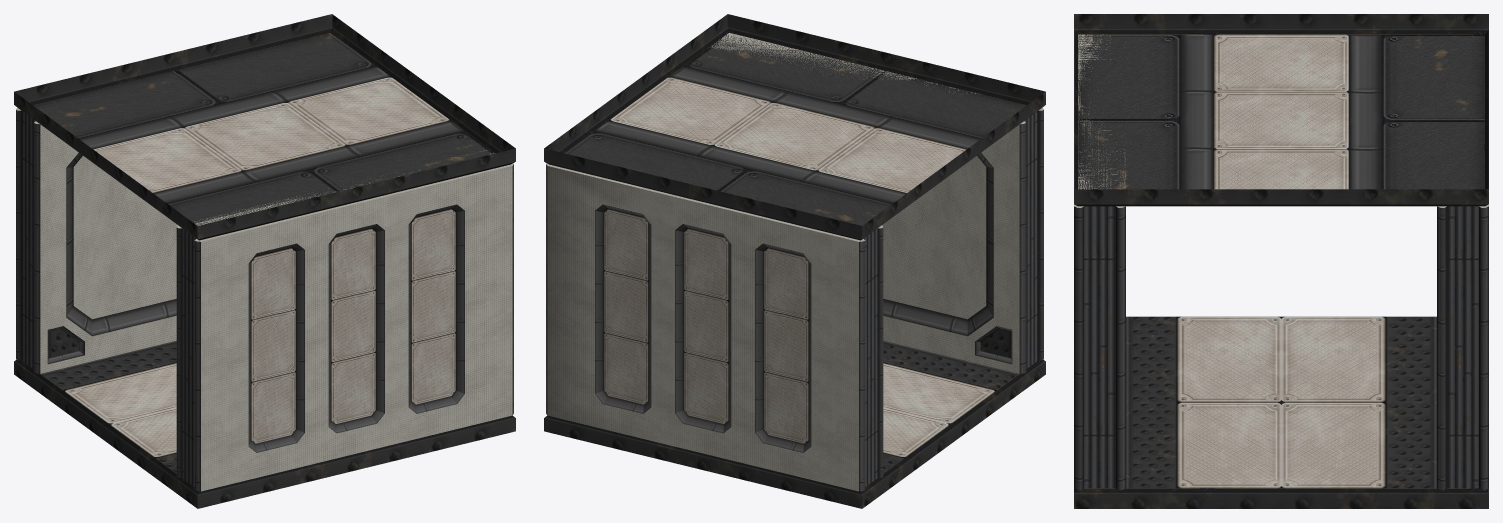
Rendered from Corridor_Corridor_Rework.fbx.
3 renders of one model, left to right at view 1: azimuth 30°, elevation 25°; view 2: azimuth 150°, elevation 25°; view 3: azimuth 270°, elevation 25°, orthographic. The views are drawn at different scales.
Parts seen in each view (by area): view 1: Corridor_Corridor_Rework; view 2: Corridor_Corridor_Rework; view 3: Corridor_Corridor_Rework.
Part boxes in pixels (x1,y1,x2,y2): Corridor_Corridor_Rework: (14,14,515,508); Corridor_Corridor_Rework: (544,14,1045,508); Corridor_Corridor_Rework: (1074,14,1488,508).
Size of the model in its own units: 400 by 340 by 400.
